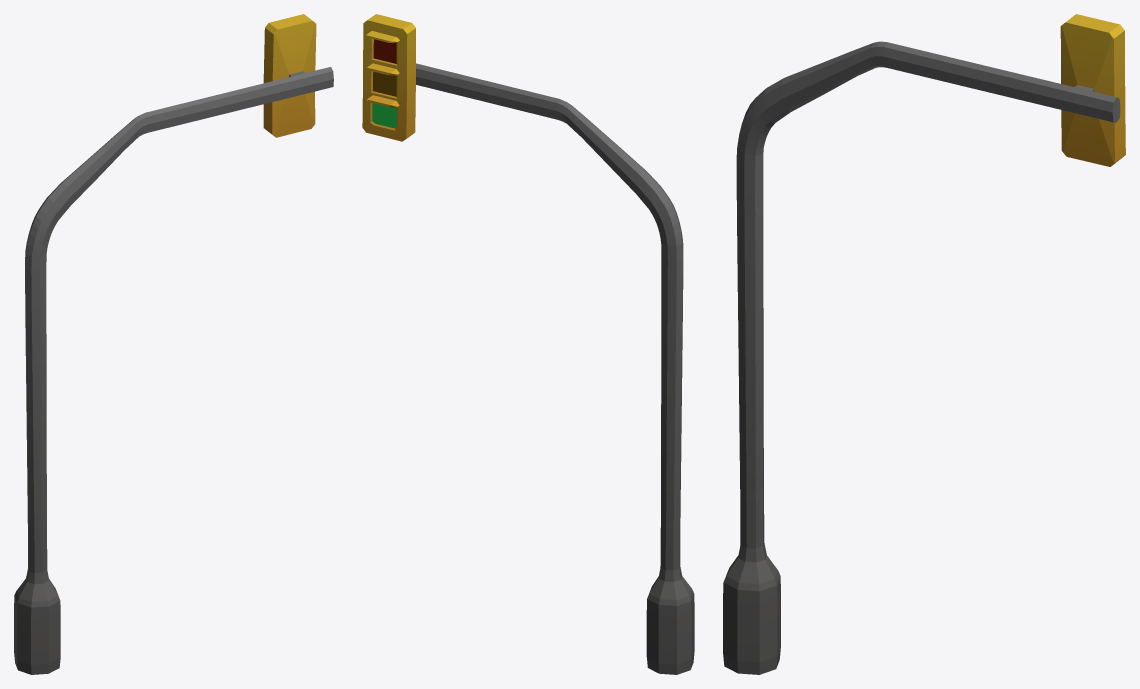
Rendered from StreetLight.fbx.
3 views of the same model, side by side, from view 1: azimuth 30°, elevation 25°; view 2: azimuth 150°, elevation 25°; view 3: azimuth 330°, elevation 25° (orthographic). The views are drawn at different scales.
Parts seen in each view (by area): view 1: Cube.001; view 2: Cube.001; view 3: Cube.001.
Boxes of the visible parts, left/top/right/bottom form: Cube.001: left=14, top=14, right=333, bottom=674; Cube.001: left=362, top=14, right=694, bottom=674; Cube.001: left=723, top=14, right=1125, bottom=674.
Bounding box in the file's own units: 21.1 × 36.89 × 3.89.
